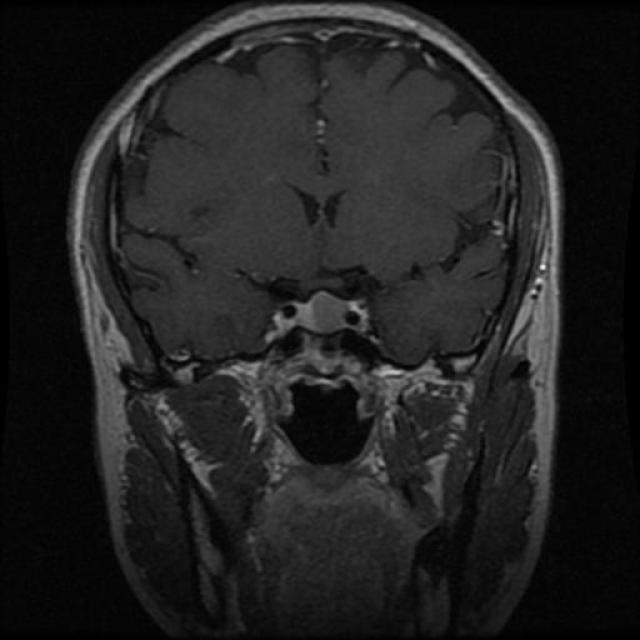pituitary: (284, 286, 386, 350)
